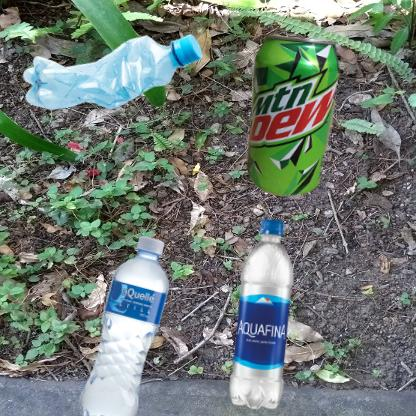botella: (10, 213, 252, 416), (10, 10, 249, 151), (213, 213, 321, 416)
lata: (213, 10, 376, 219)
